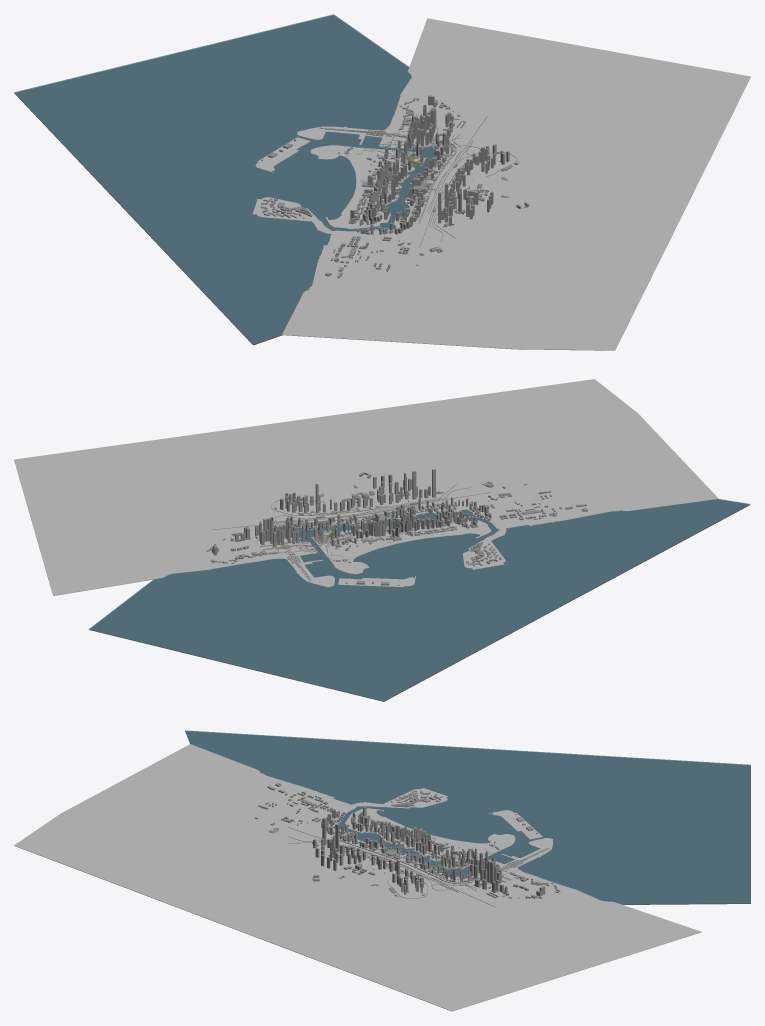
The model's file is map.glb.
3 views of the same model, one above another, from view 1: azimuth 30°, elevation 25°; view 2: azimuth 150°, elevation 25°; view 3: azimuth 270°, elevation 25° (orthographic). The views are drawn at different scales.
Parts seen in each view (by area): view 1: land, sea, Build, road; view 2: land, sea, Build, road; view 3: land, sea, Build, road.
Boxes of the visible parts, x1,y1,x2,y2 form: land: (251, 18, 750, 350); sea: (14, 14, 436, 345); Build: (260, 95, 529, 278); road: (320, 117, 516, 247); land: (14, 379, 718, 595); sea: (89, 499, 750, 701); Build: (206, 469, 587, 585); road: (212, 484, 490, 580); land: (14, 744, 701, 1011); sea: (185, 730, 750, 904); Build: (255, 782, 560, 899); road: (288, 827, 549, 907).
Bounding box in the file's own units: 9392 × 426 × 10410.
Materials: 6 (1 with a texture image).
